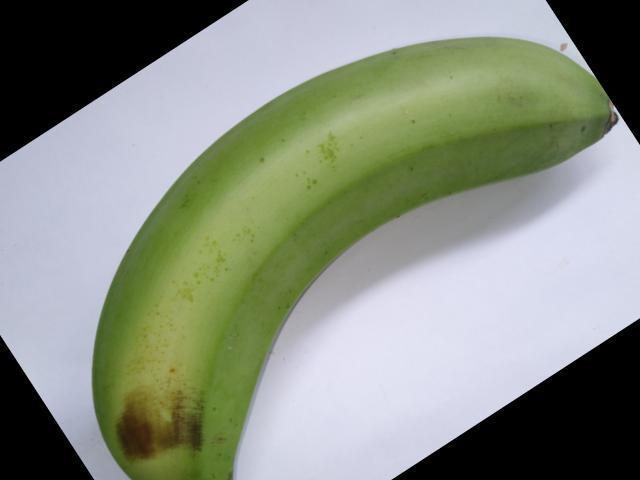freshunripe: (85, 20, 616, 479)
